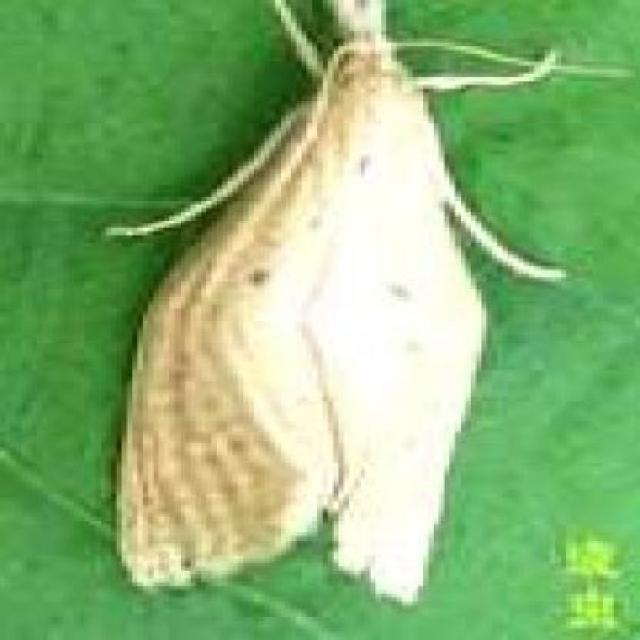stem-borer: (100, 0, 545, 609)
